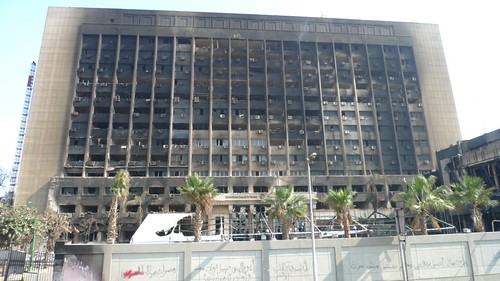building: (36, 11, 451, 236)
tree: (394, 174, 455, 232), (96, 167, 134, 246), (177, 167, 215, 246), (263, 179, 309, 241), (458, 174, 497, 233), (327, 185, 366, 237)
